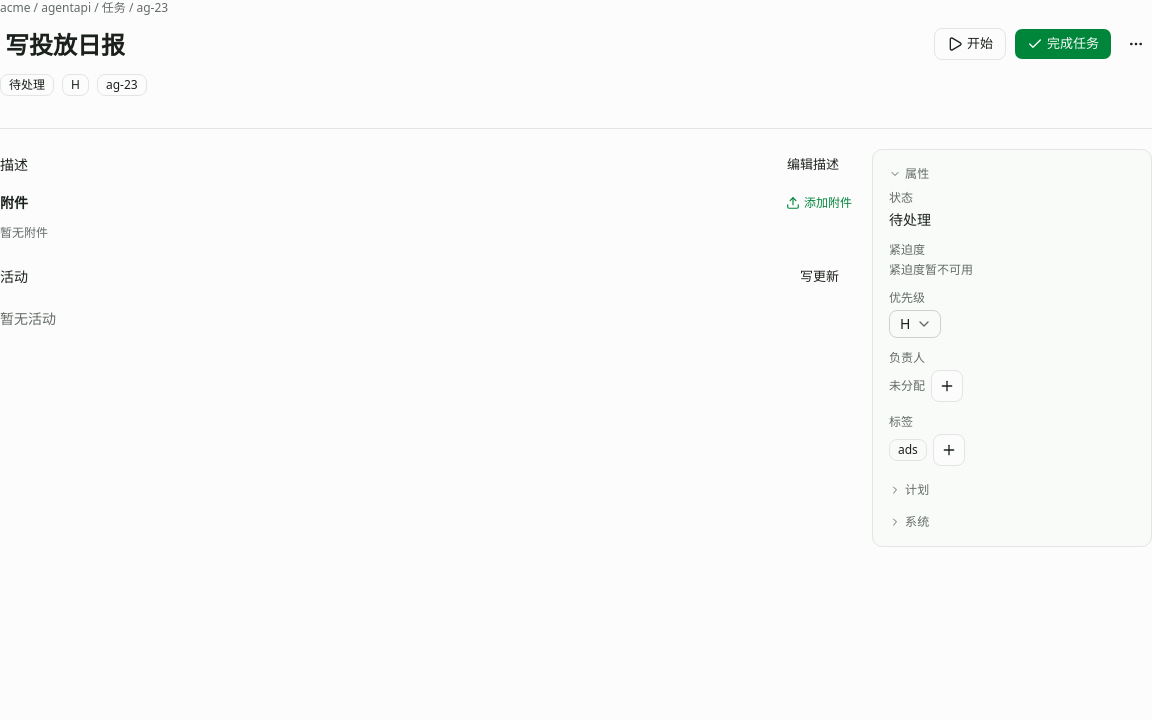
Test: TaskDetailPage › hides empty related sections and opens their creation flows from more actions
Expected: the text "写投放日报" is shown, x1=5 y1=29 x2=125 y2=61
Expected: the heading "链接" is not shown
Click the button named "更多操作 ag-23": x=1136, y=44 x1=1120 y1=28 x2=1151 y2=60
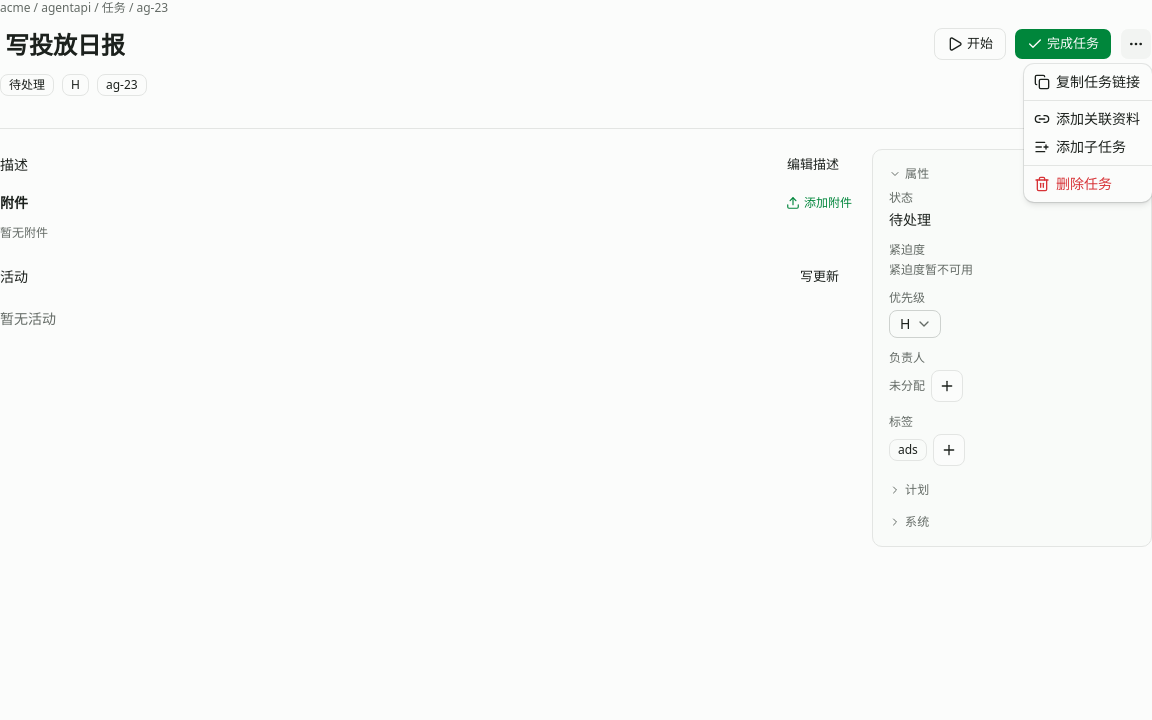
Click the menu item "添加关联资料": x=1088, y=119 x1=1028 y1=105 x2=1148 y2=133
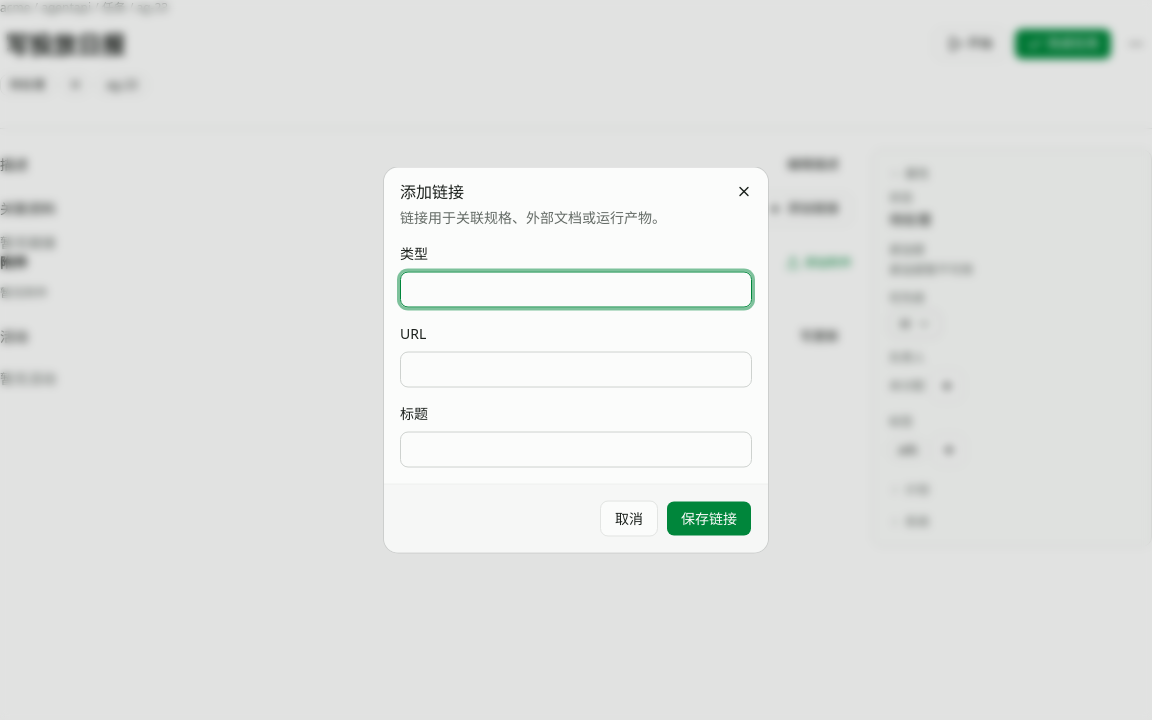
Expected: the dialog "添加链接" is shown, x1=384 y1=168 x2=768 y2=552
Press Escape
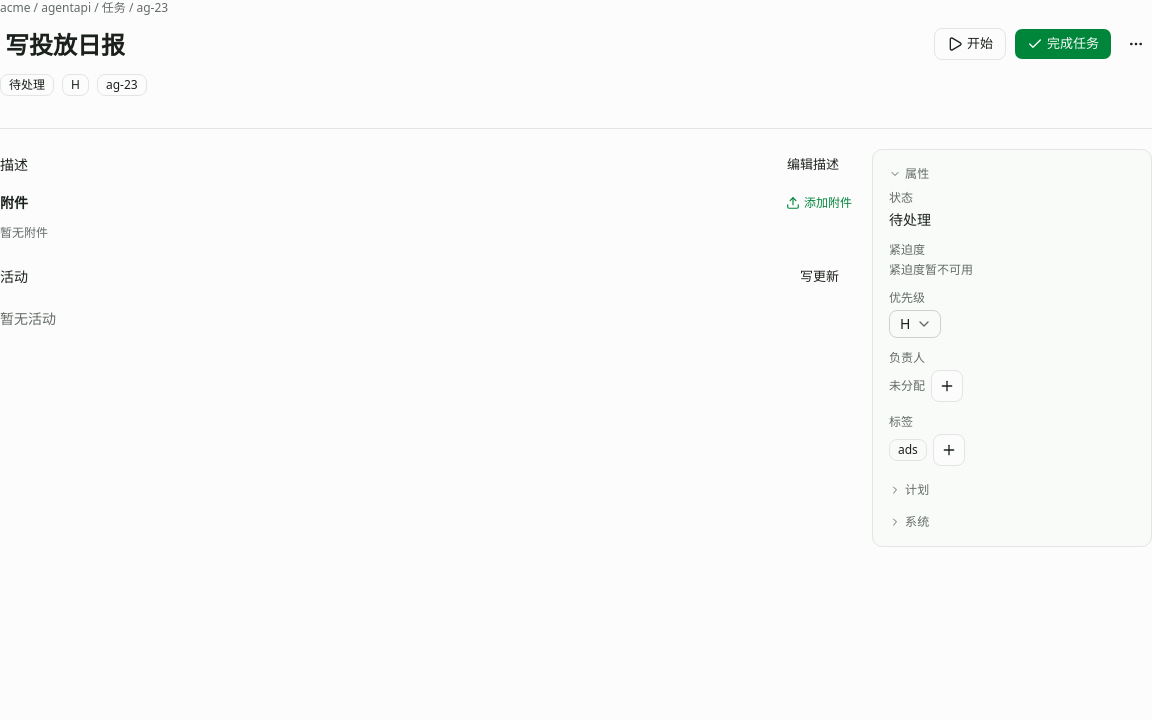
Click the button named "更多操作 ag-23": x=1136, y=44 x1=1120 y1=28 x2=1151 y2=60
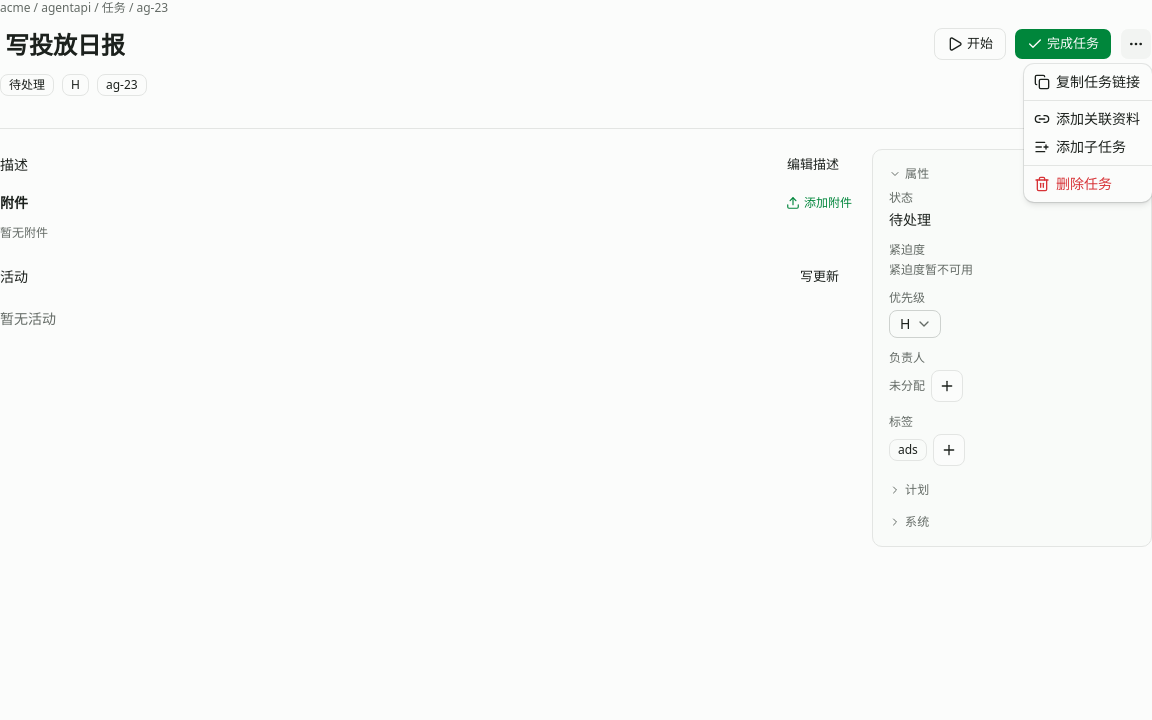
Click the menu item "添加子任务": x=1080, y=146 x1=1034 y1=137 x2=1126 y2=156
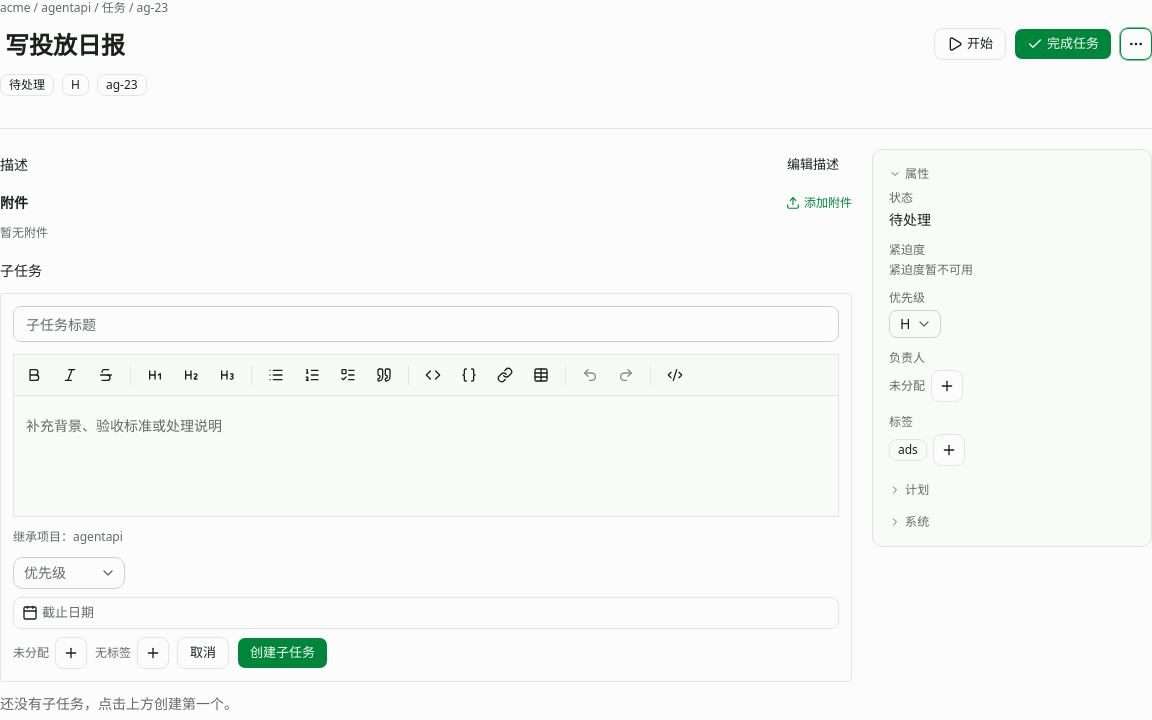
Expected: the field labelled "子任务标题" is shown, x1=13 y1=306 x2=839 y2=342
